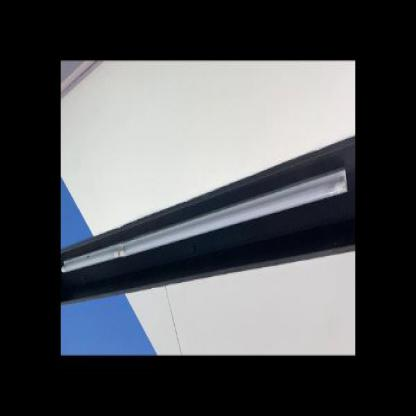light_off: (60, 140, 349, 302)
